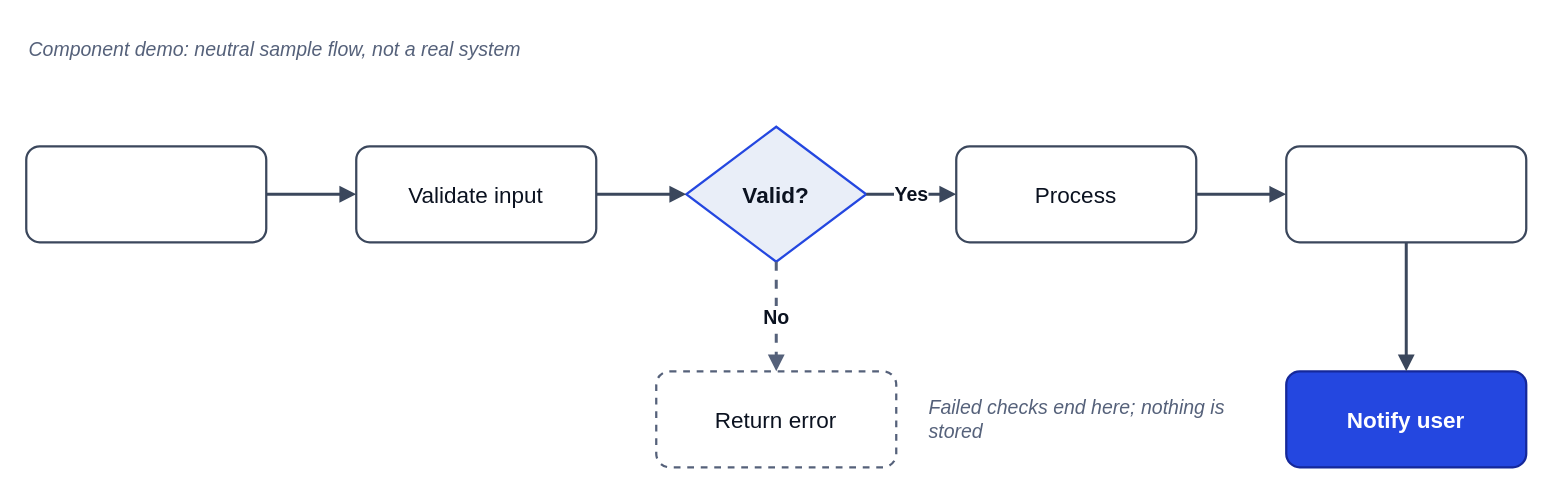
Some shapes in this 1554 by 494 pixel diagram are drawn without their labels. The shapes that lost their labels are listed below. From the top down, each one's box as (x1, y1, x2, y2) in pixels, then its label:
(24, 144, 267, 243): Request received
(1284, 144, 1527, 243): Store result
